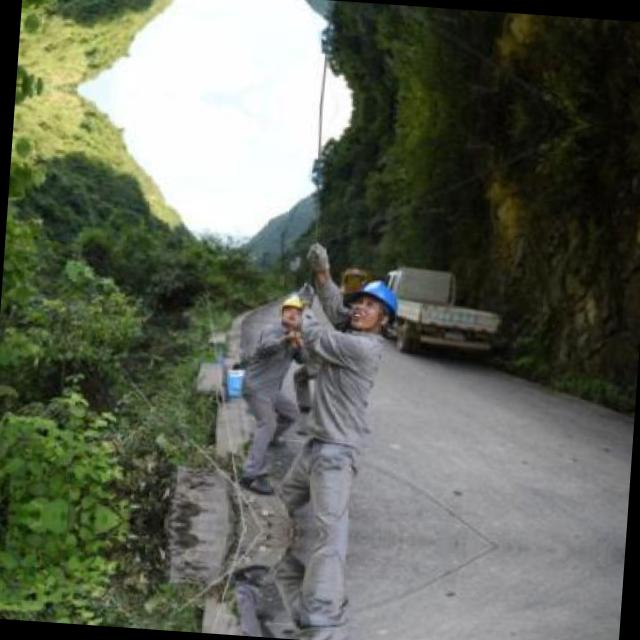helmet: (338, 270, 402, 334), (276, 290, 310, 328)
